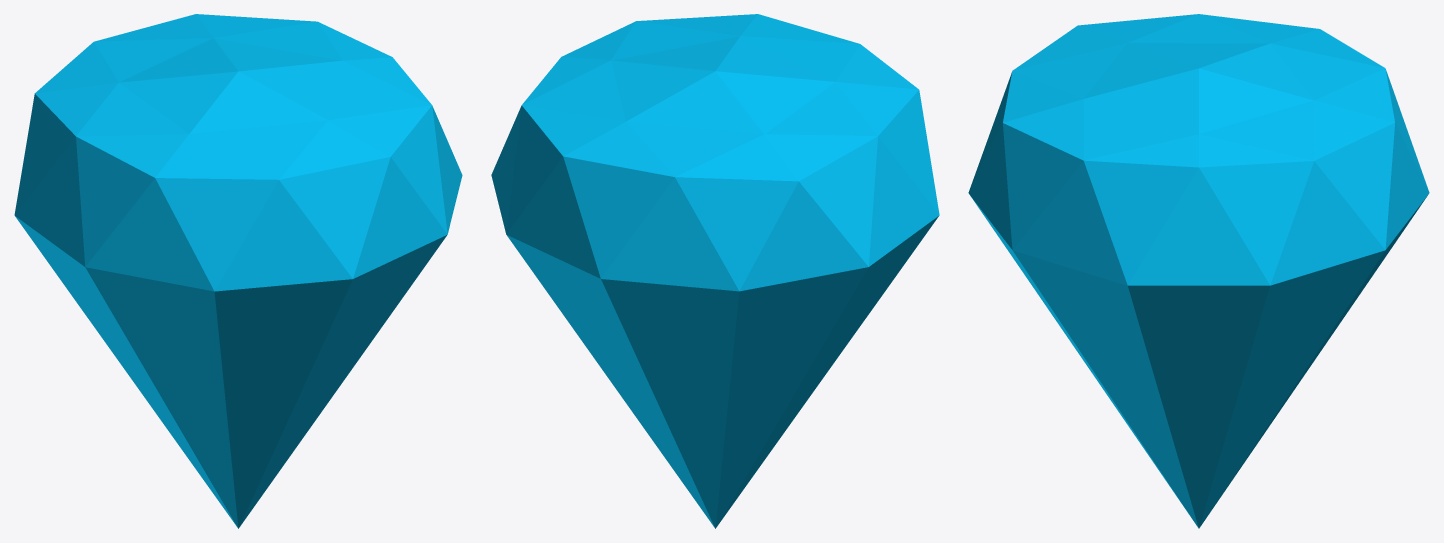
The model's file is diamondMeshBlue.fbx.
The picture shows the model from 3 angles, left to right: view 1: azimuth 30°, elevation 25°; view 2: azimuth 150°, elevation 25°; view 3: azimuth 270°, elevation 25°; orthographic projection.
Parts seen in each view (by area): view 1: Icosphere; view 2: Icosphere; view 3: Icosphere.
Part boxes in pixels (x1,y1,x2,y2): Icosphere: (14,14,462,528); Icosphere: (491,14,939,528); Icosphere: (968,14,1429,528).
Size of the model in its own units: 190 by 220 by 200.
